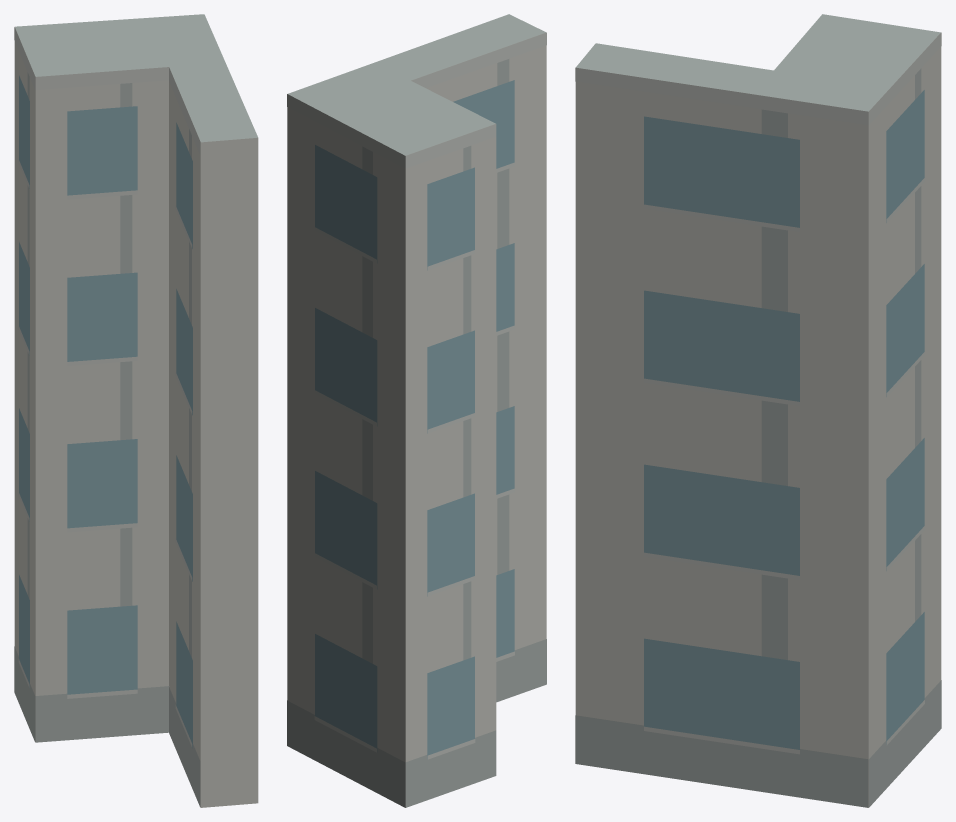
File: survey-upis-32817741.glb
3 renders of one model, left to right at view 1: azimuth 30°, elevation 25°; view 2: azimuth 150°, elevation 25°; view 3: azimuth 270°, elevation 25°, orthographic. The views are drawn at different scales.
Visible parts, largest first — view 1: survey-upis-32817741.tmp; view 2: survey-upis-32817741.tmp; view 3: survey-upis-32817741.tmp.
Part boxes in pixels (x1=…): survey-upis-32817741.tmp: x1=14, y1=14, x2=258, y2=807; survey-upis-32817741.tmp: x1=287, y1=14, x2=546, y2=807; survey-upis-32817741.tmp: x1=575, y1=14, x2=941, y2=807.
Bounding box in the file's own units: 3.68 × 12.2 × 5.81.
